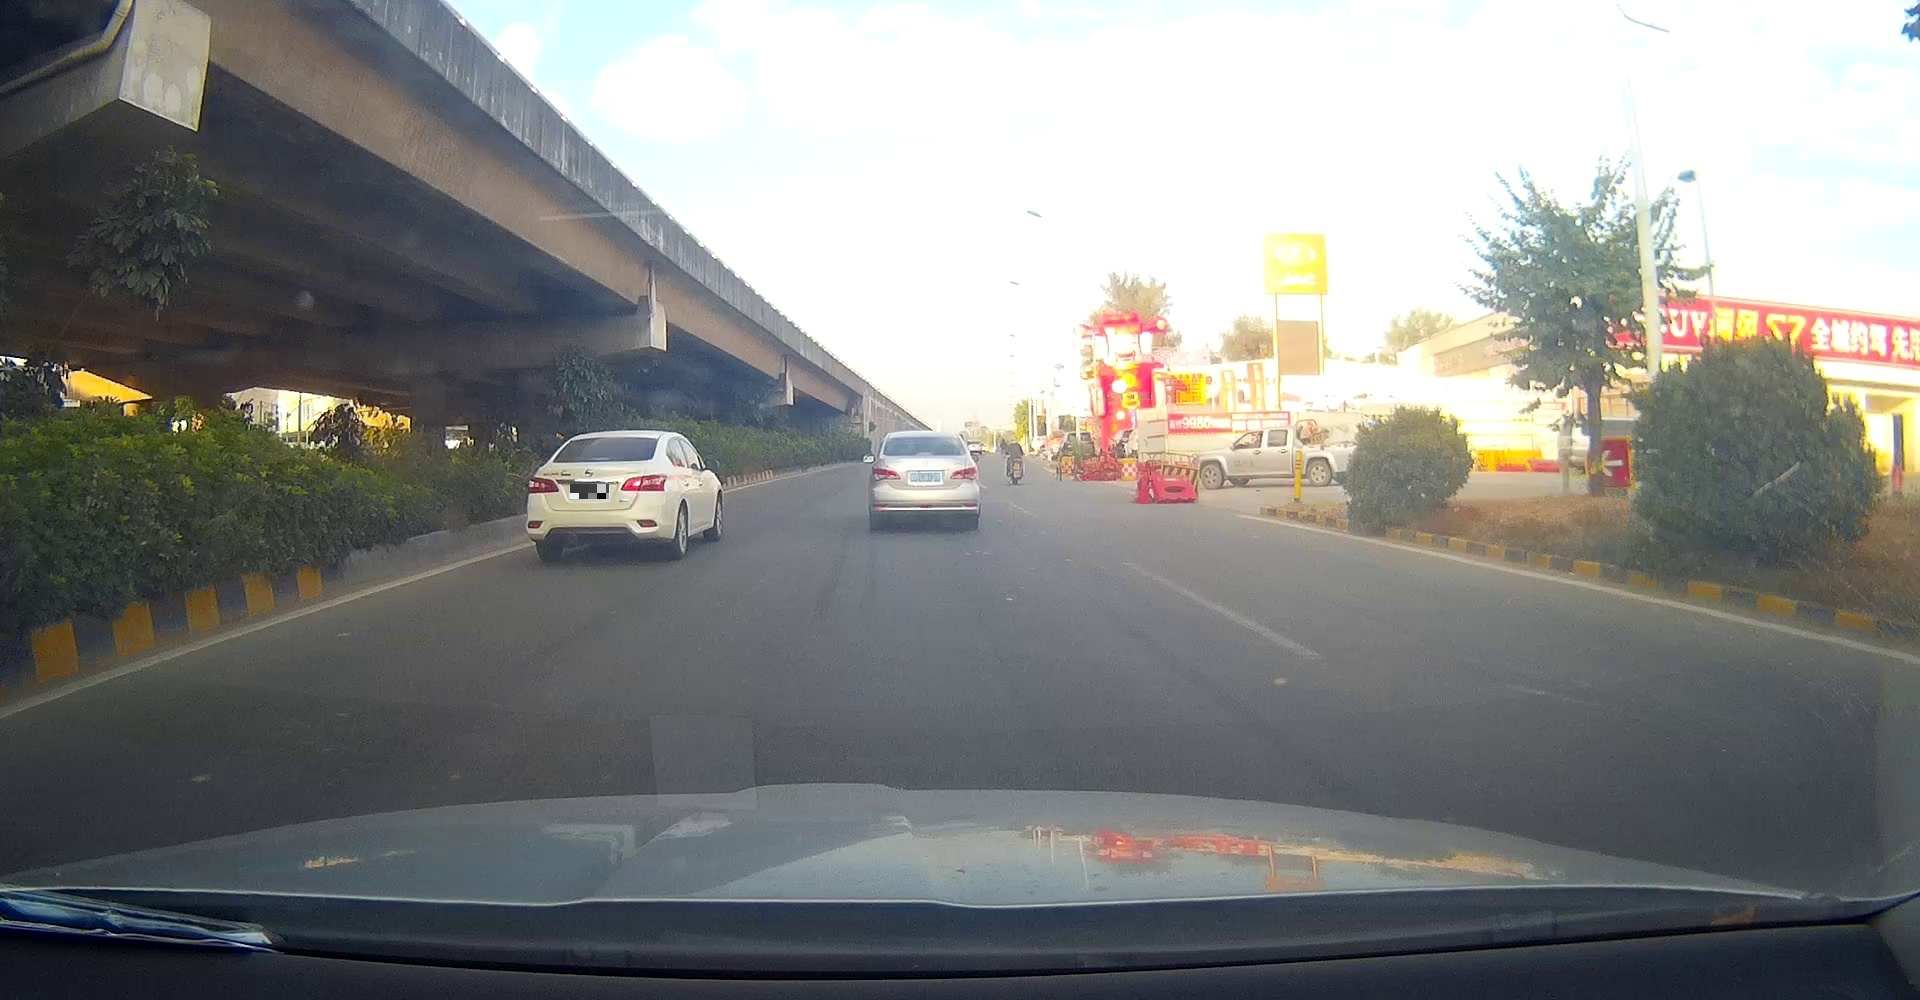L_light: (527, 476, 560, 494), (871, 468, 902, 480)
R_light: (620, 475, 667, 491), (950, 466, 979, 480)
T_light: (589, 457, 610, 461), (916, 452, 933, 456)
day-no: (524, 430, 668, 562), (869, 430, 982, 528)
plate_1: (570, 484, 610, 499)
